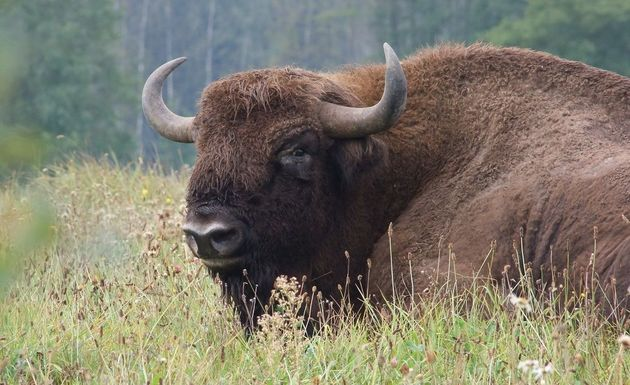zubr: (123, 13, 630, 325)
